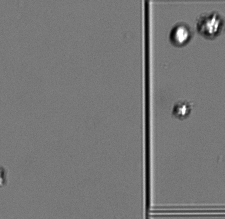Living Cell: (196, 9, 222, 39), (168, 20, 193, 48), (172, 100, 193, 121)
